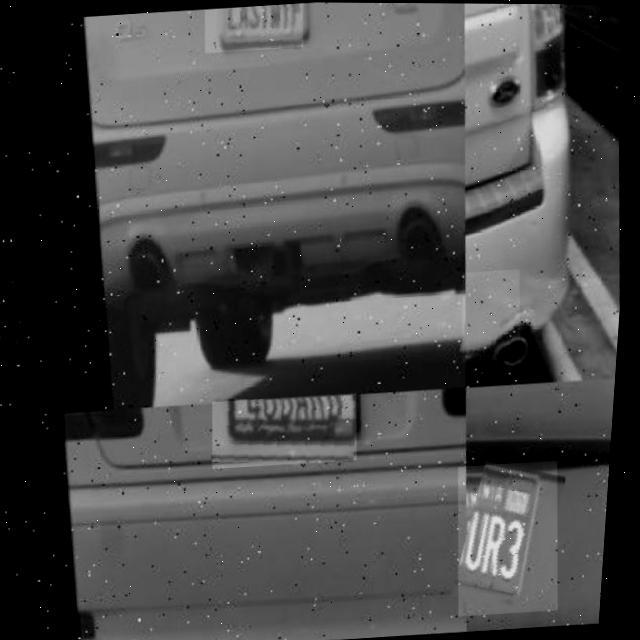LicensePlate: (456, 458, 574, 616), (214, 391, 366, 469), (461, 268, 529, 361), (202, 2, 306, 53)
